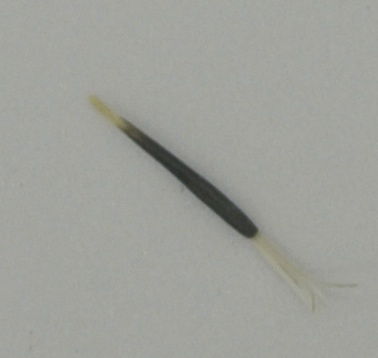เมล็ดดีเรียวยาว: (88, 94, 363, 314)
